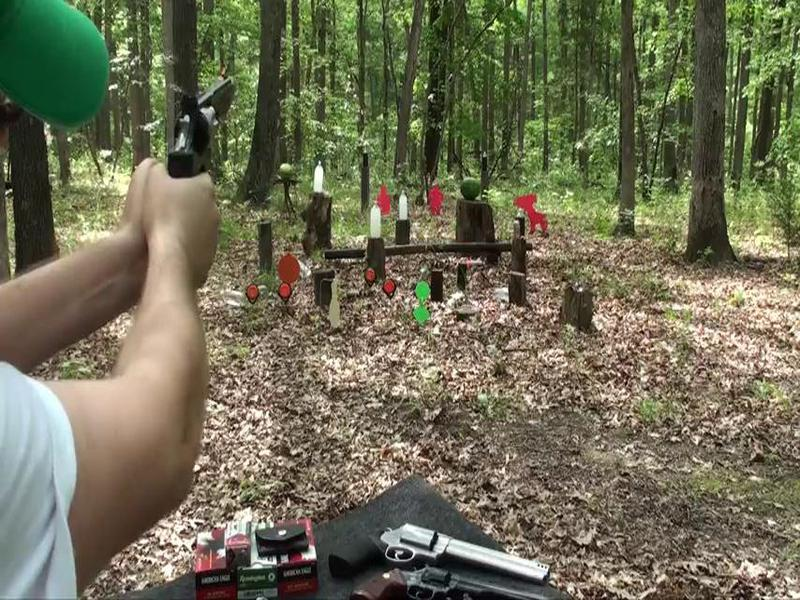Revolver: (141, 62, 257, 211)
